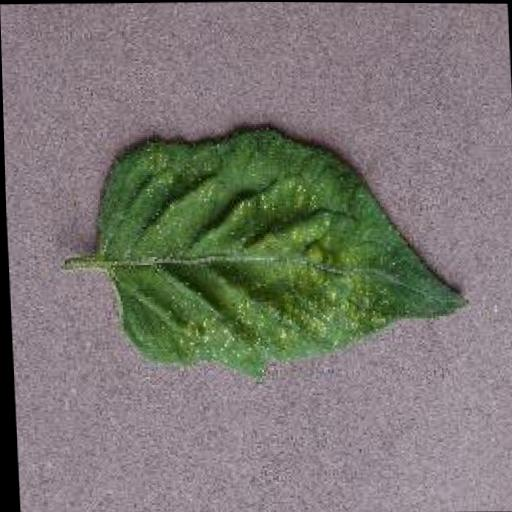Spider Mites: (92, 123, 472, 381)
